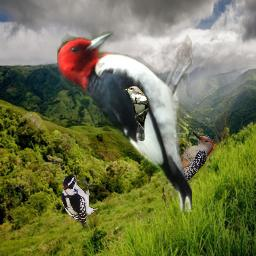Cuckoo: (123, 86, 149, 141)
Woodpecker: (57, 31, 192, 212), (172, 132, 214, 186), (62, 172, 99, 229)
